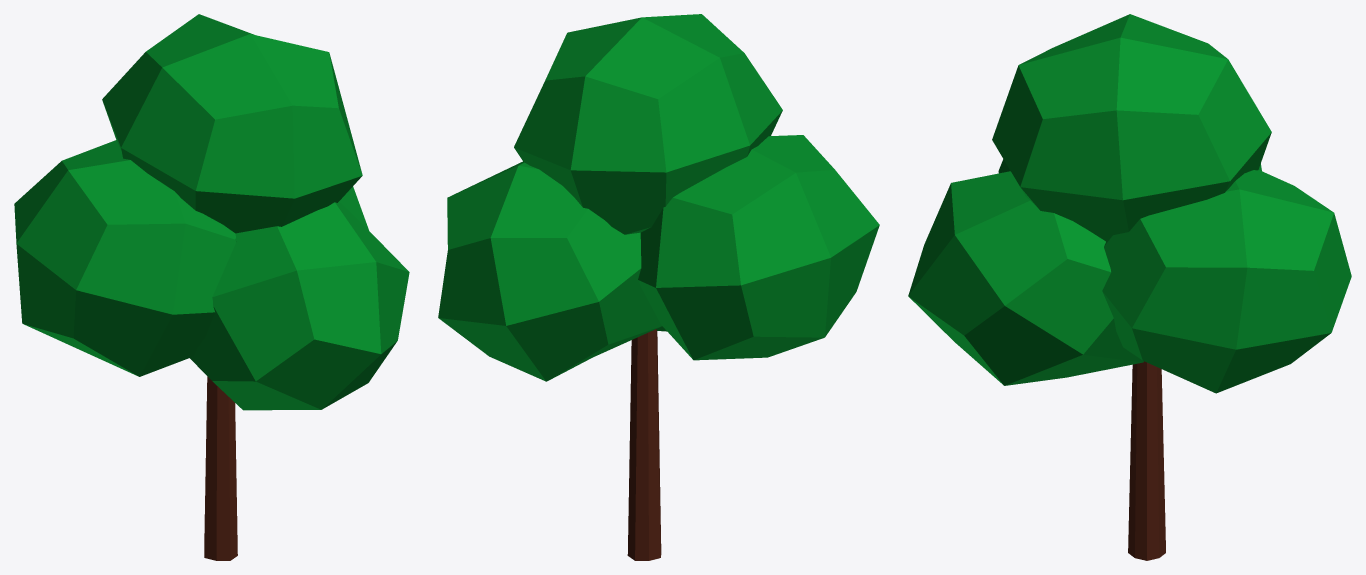
The model's file is Tree2.fbx.
3 renders of one model, left to right at view 1: azimuth 30°, elevation 25°; view 2: azimuth 150°, elevation 25°; view 3: azimuth 270°, elevation 25°, orthographic.
Visible parts, largest first — view 1: Tree2; view 2: Tree2; view 3: Tree2.
Part boxes in pixels (x1,y1,x2,y2): Tree2: [14, 14, 409, 560]; Tree2: [438, 14, 879, 560]; Tree2: [908, 14, 1351, 560].
Bounding box in the file's own units: 614 × 885 × 680.
